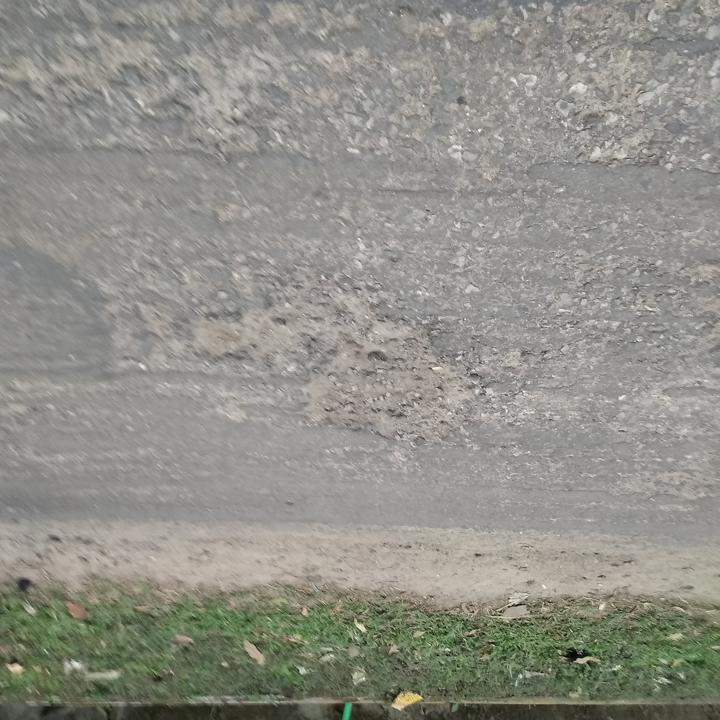pothole: (187, 281, 486, 458)
